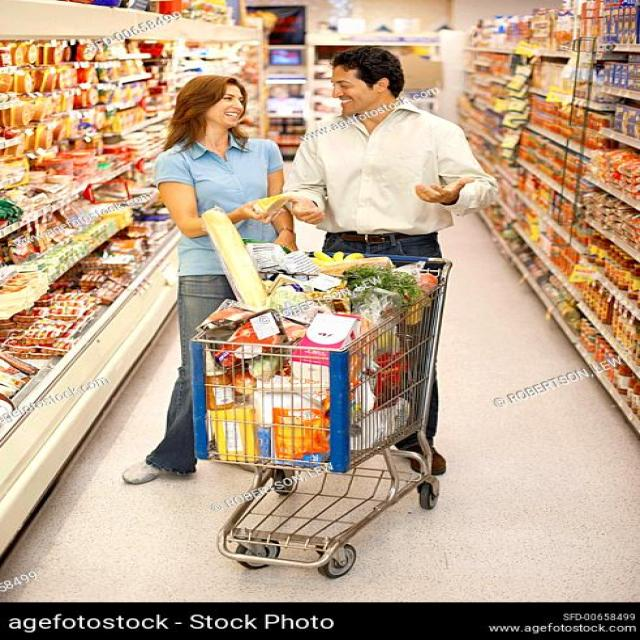Person: (292, 47, 500, 475), (123, 73, 296, 479)
